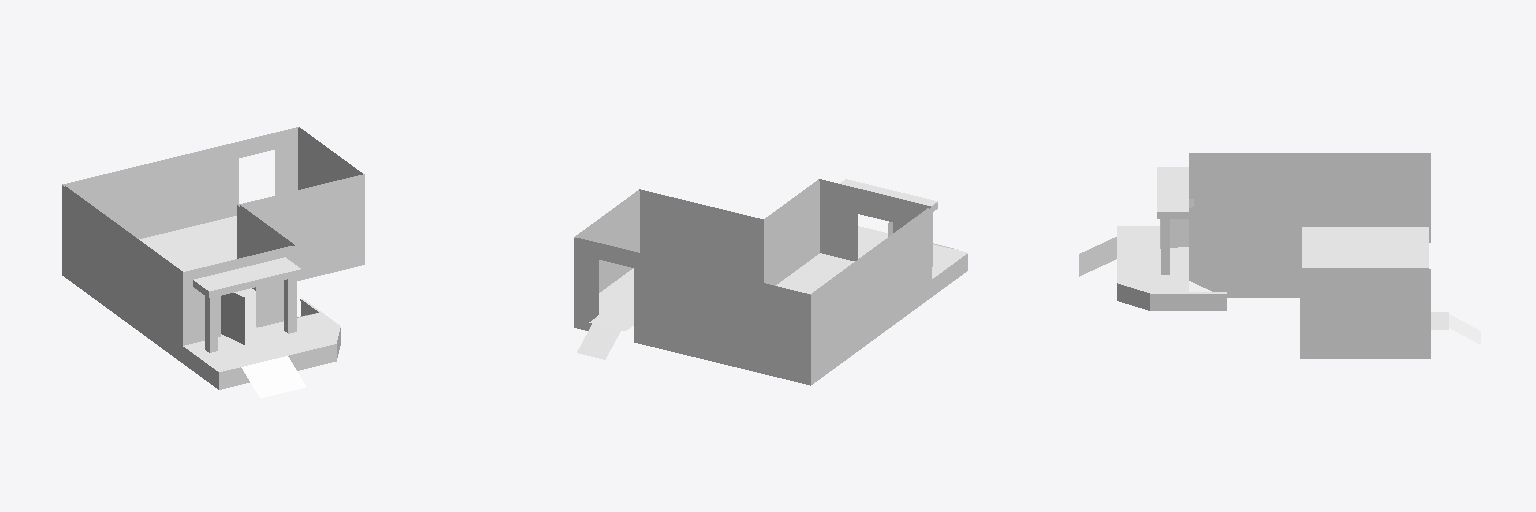
Rendered from Cottage 1 Collision.obj.
The picture shows the model from 3 angles: view 1: azimuth 30°, elevation 25°; view 2: azimuth 150°, elevation 25°; view 3: azimuth 270°, elevation 25°; orthographic projection.
Visible parts, largest first — view 1: Collisions; view 2: Collisions; view 3: Collisions.
Part boxes in pixels (left/top/right/bottom): Collisions: left=62, top=127, right=364, bottom=398; Collisions: left=574, top=179, right=967, bottom=385; Collisions: left=1079, top=153, right=1480, bottom=358.
Size of the model in its own units: 17.05 by 6.23 by 25.05.